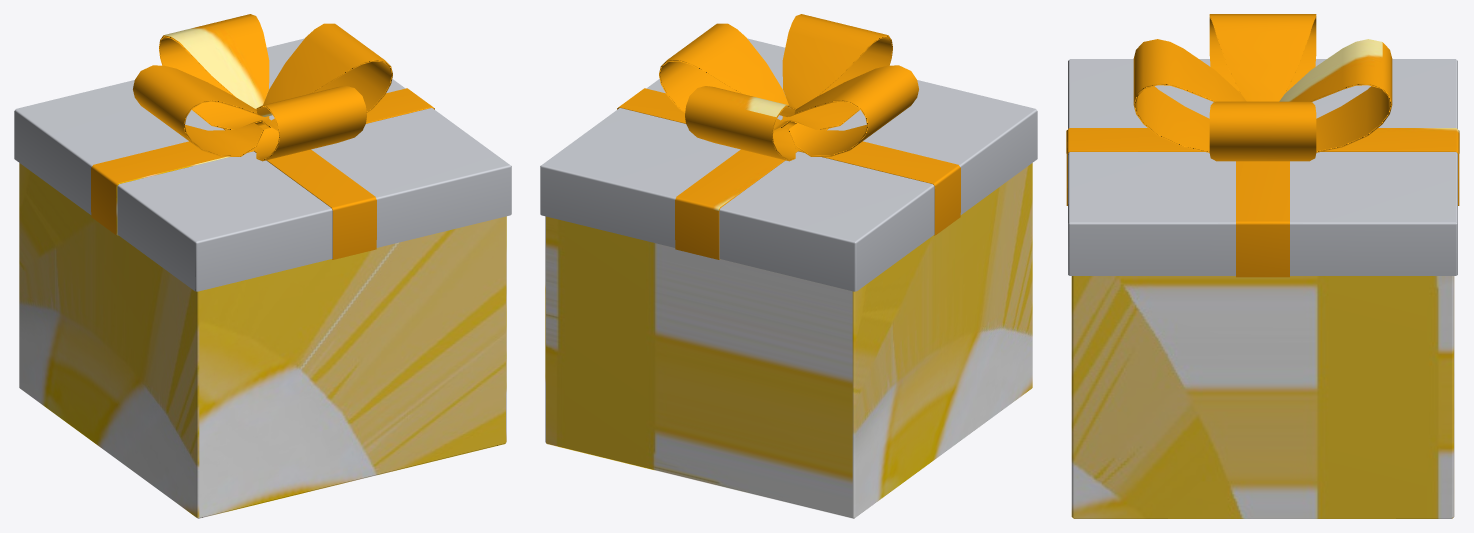
The model's file is giftbox.fbx.
3 renders of one model, left to right at view 1: azimuth 30°, elevation 25°; view 2: azimuth 150°, elevation 25°; view 3: azimuth 270°, elevation 25°, orthographic. The views are drawn at different scales.
Parts seen in each view (by area): view 1: SK_GiftBox.002, SK_GiftBox.001, SK_GiftBox; view 2: SK_GiftBox.002, SK_GiftBox.001, SK_GiftBox; view 3: SK_GiftBox.002, SK_GiftBox.001, SK_GiftBox.
Boxes of the visible parts, box(x1,y1,x2,y2) form: SK_GiftBox.002: box(19, 163, 506, 518); SK_GiftBox.001: box(14, 38, 511, 291); SK_GiftBox: box(91, 14, 434, 259); SK_GiftBox.002: box(545, 163, 1032, 518); SK_GiftBox.001: box(540, 38, 1037, 291); SK_GiftBox: box(617, 14, 960, 259); SK_GiftBox.002: box(1071, 276, 1454, 518); SK_GiftBox.001: box(1068, 59, 1457, 275); SK_GiftBox: box(1066, 14, 1459, 277).
Size of the model in its own units: 188 by 200 by 188.
